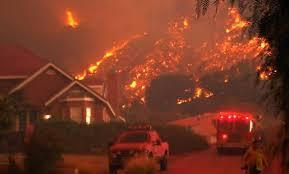fire: (72, 7, 274, 120), (60, 7, 80, 31)
